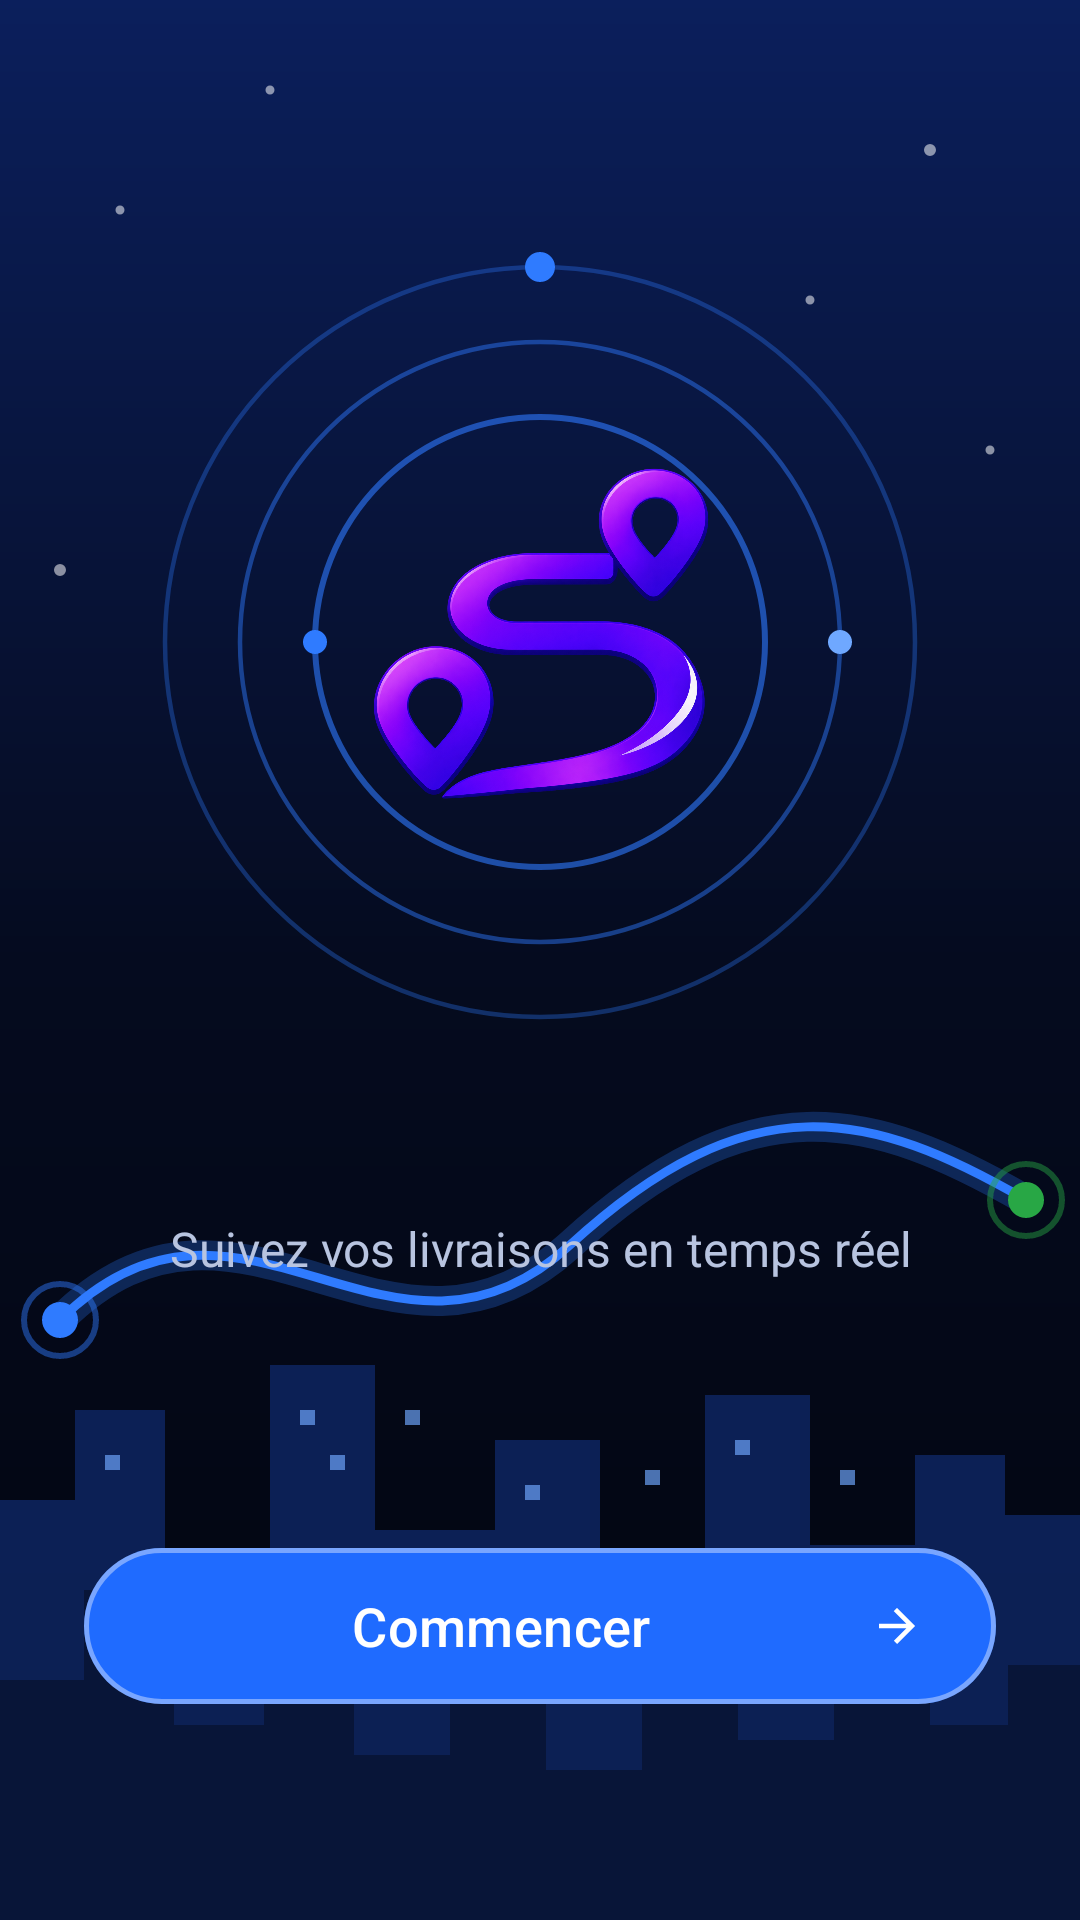

Point at icon controls on the screen. Image size 1080 x 1920, points as (x=x, y=y).
suivi livraision: (x=540, y=642)
